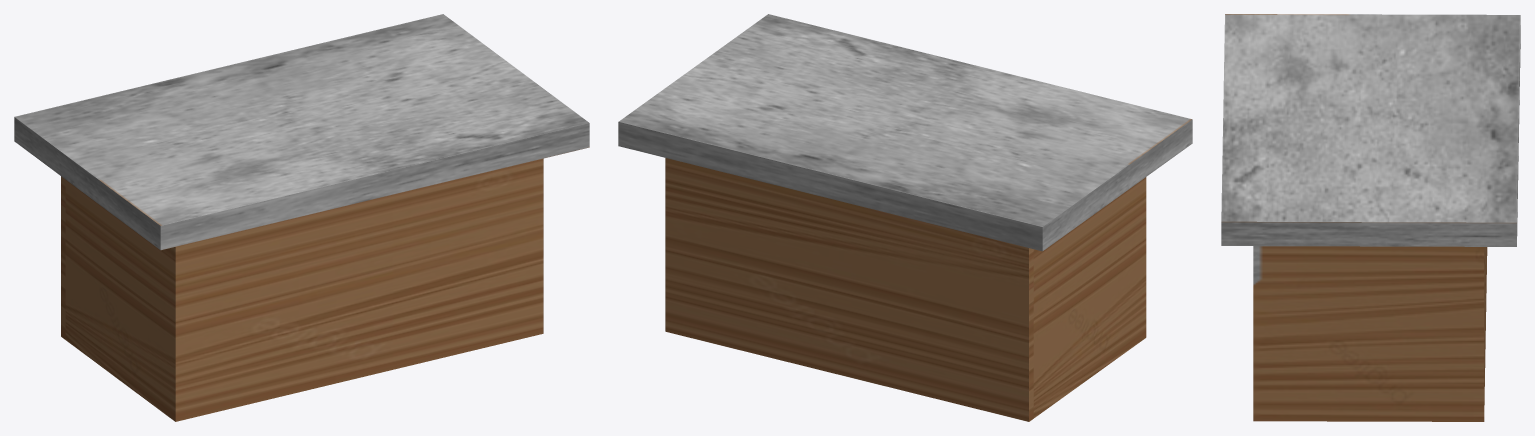
The model's file is int_110.fbx.
3 renders of one model, left to right at view 1: azimuth 30°, elevation 25°; view 2: azimuth 150°, elevation 25°; view 3: azimuth 270°, elevation 25°, orthographic.
Visible parts, largest first — view 1: Isla.001; view 2: Isla.001; view 3: Isla.001.
Boxes of the visible parts, <box> form: Isla.001: <box>14,14,589,421</box>; Isla.001: <box>618,14,1192,421</box>; Isla.001: <box>1221,14,1520,421</box>.
Bounding box in the file's own units: 210 × 101 × 127.
Materials: 1 (1 with a texture image).
